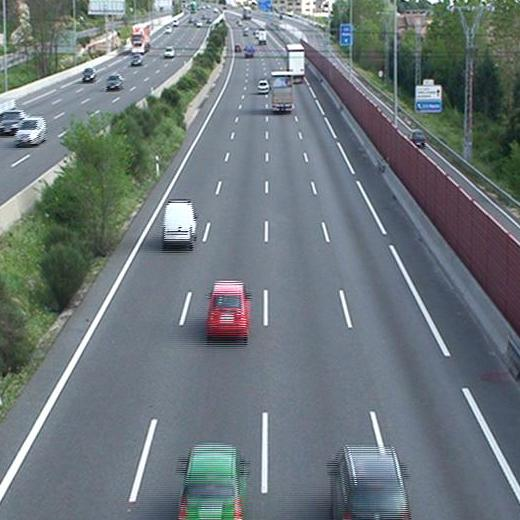car: (204, 282, 250, 340), (255, 79, 268, 97)
small-truck: (270, 71, 294, 113)
truck: (284, 45, 305, 80)
van: (160, 200, 196, 246)
